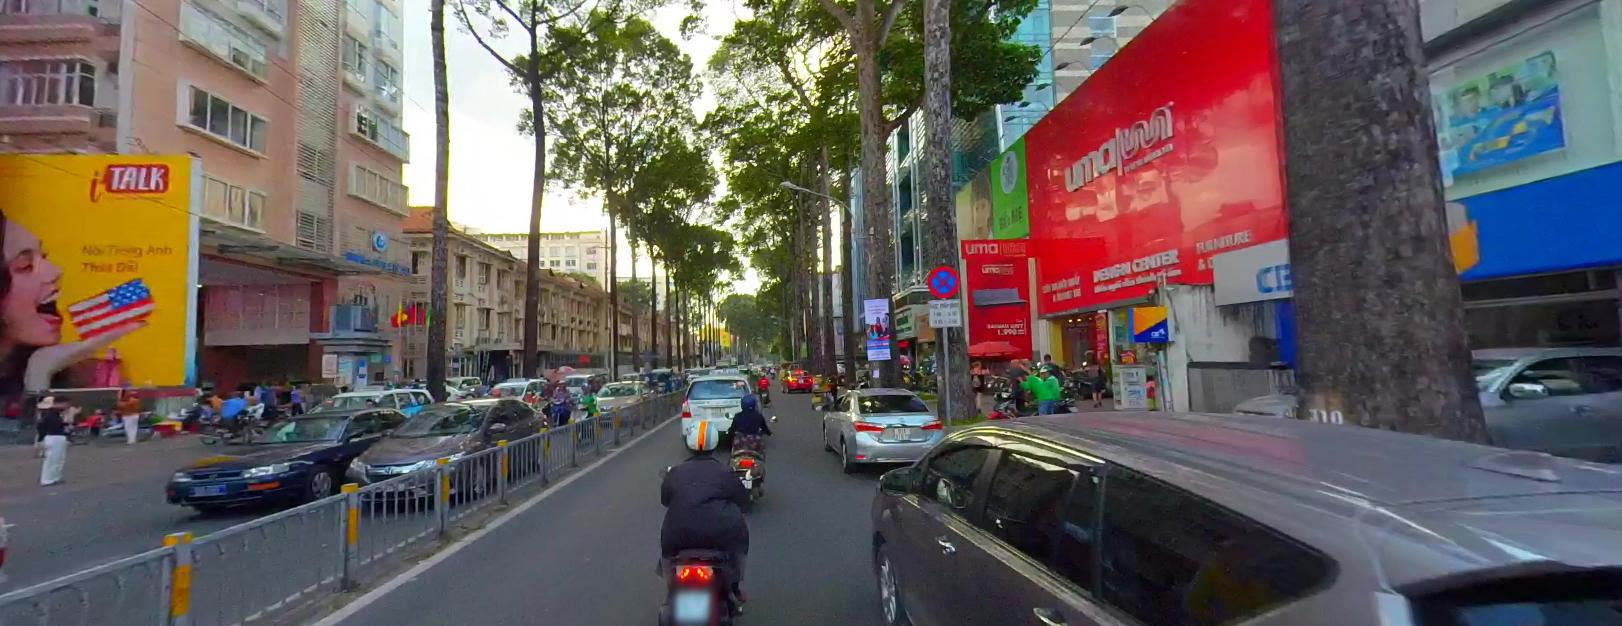Cam dung va do: (927, 264, 959, 296)
